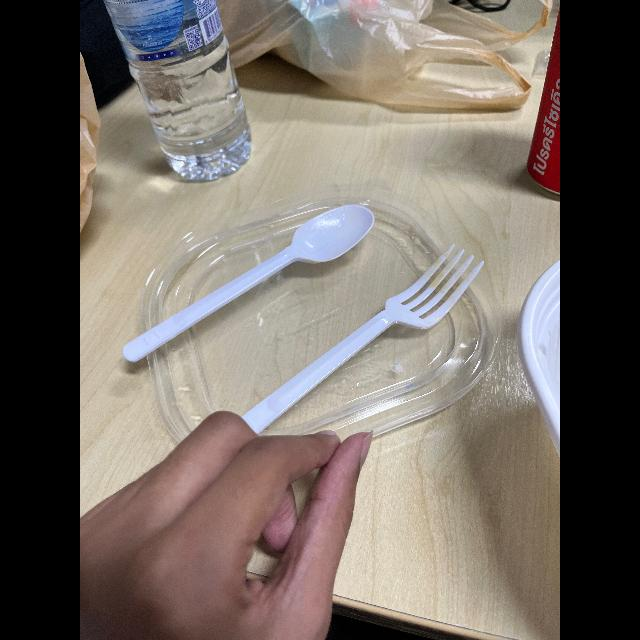plastic_cultery: (240, 237, 490, 449), (126, 200, 378, 372)
